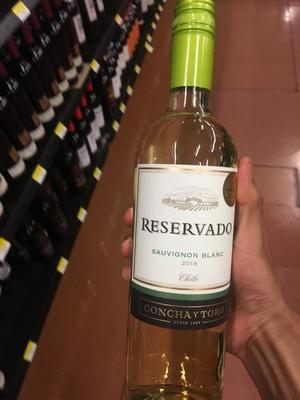reservado sauvignon blanc: (128, 10, 244, 399)
